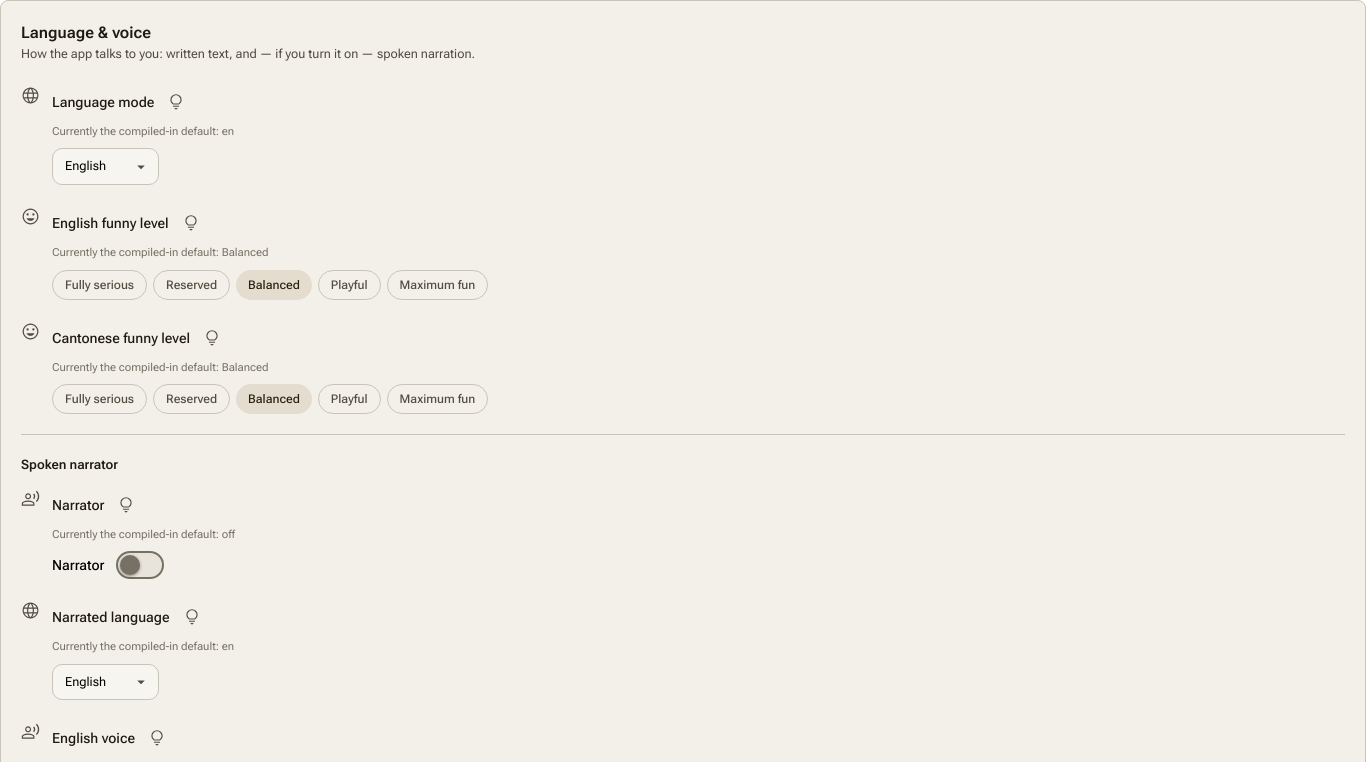
Scenario: LanguageVoiceCard: funny level controls › raising the English level to Maximum fun leaves the Cantonese level untouched
The width and height of the screenshot is (1366, 762).
Click the button "Maximum fun" below "English funny level" at point(437, 284), box [387,270,488,300]
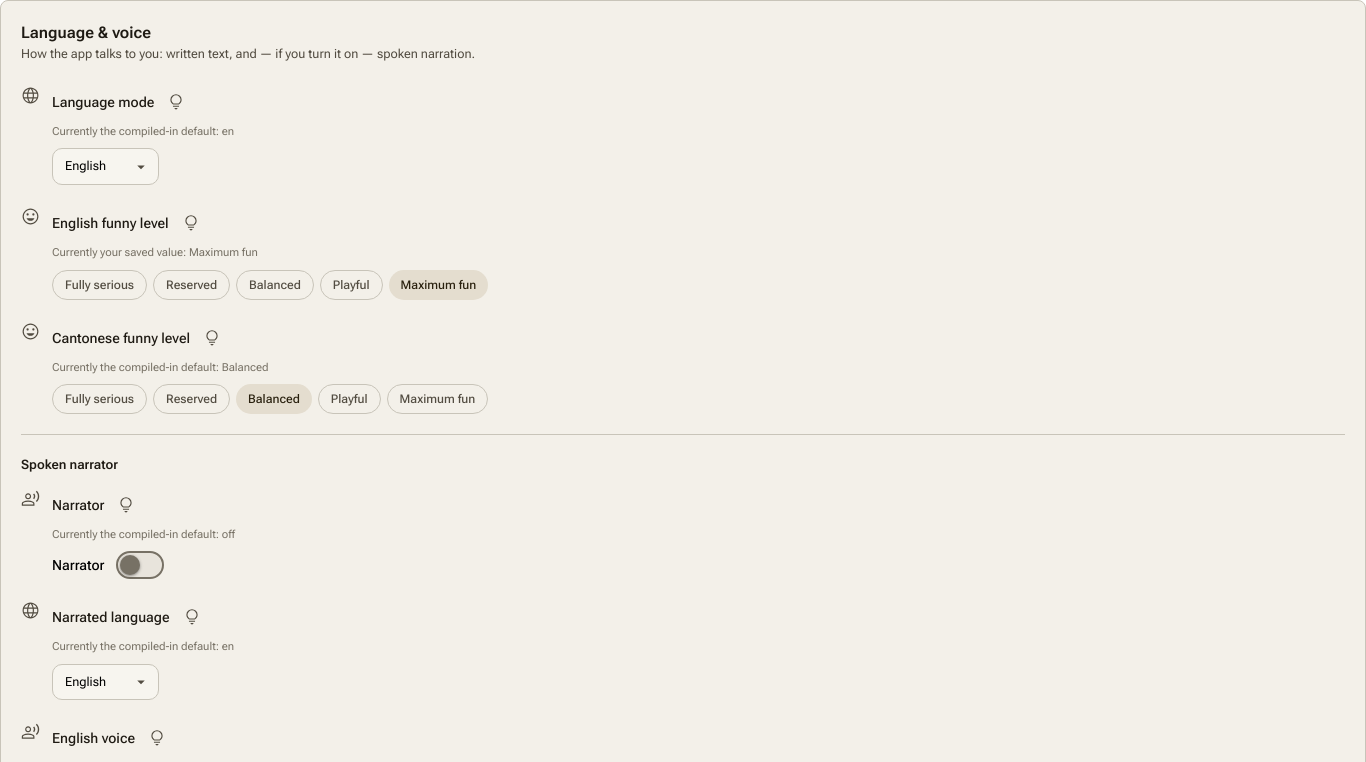
Expected: the text "Cantonese funny level" shows "Currently the compiled-in default: Balanced", [52,360,268,374]
Expected: the text "English funny level" shows "Currently your saved value: Maximum fun", [52,246,258,259]
